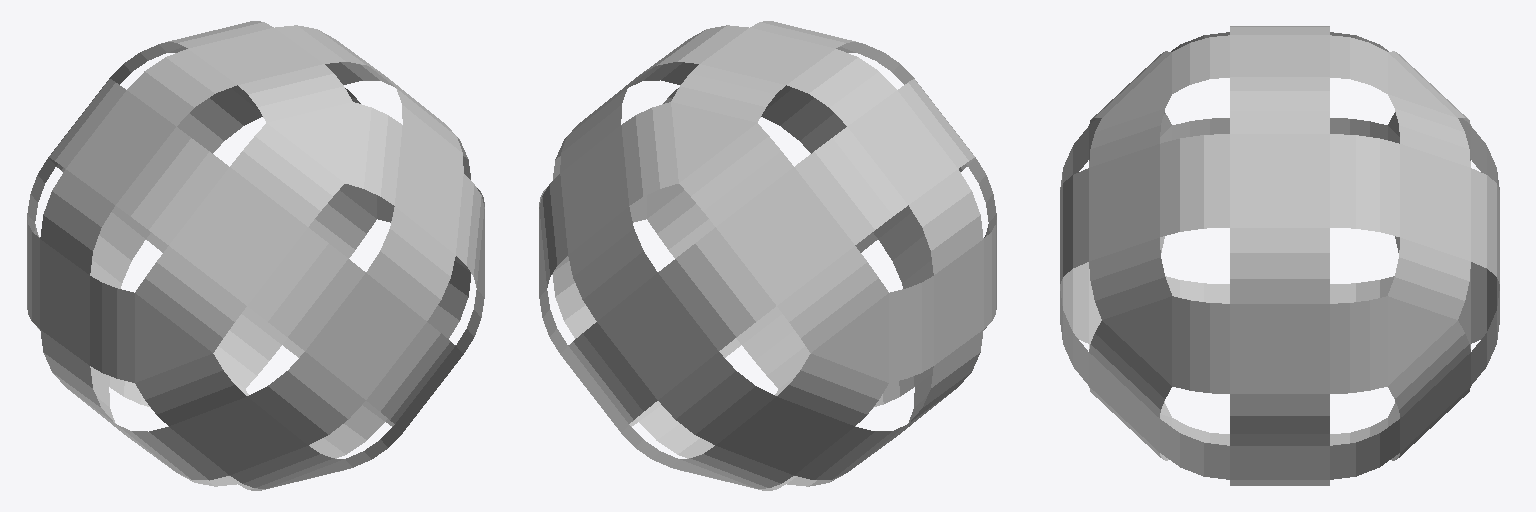
File: catom3DV2.obj
3 renders of one model, left to right at view 1: azimuth 30°, elevation 25°; view 2: azimuth 150°, elevation 25°; view 3: azimuth 270°, elevation 25°, orthographic.
Parts seen in each view (by area): view 1: catomV2; view 2: catomV2; view 3: catomV2.
Boxes of the visible parts, <box> form: catomV2: <box>27,21,484,490</box>; catomV2: <box>539,21,996,490</box>; catomV2: <box>1060,26,1499,485</box>.
Bounding box in the file's own units: 10 × 10 × 10.